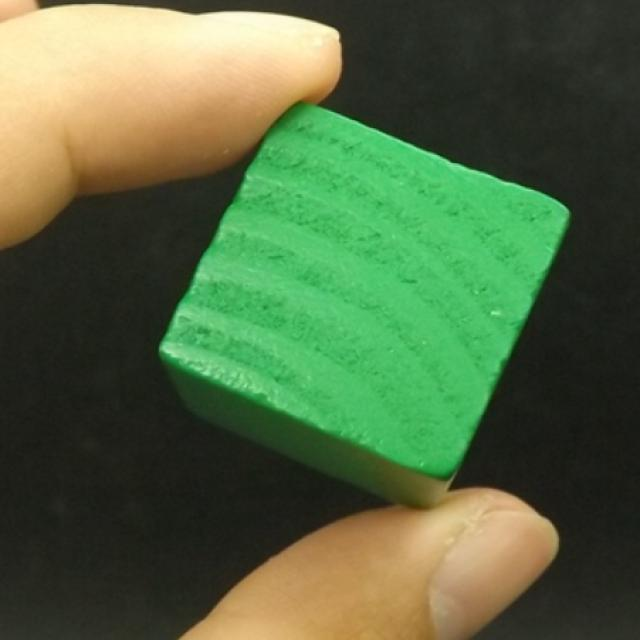green cube: (155, 102, 572, 512)
